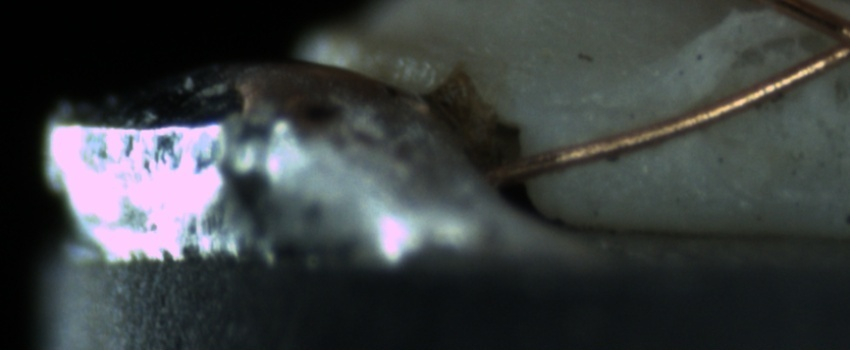CL: (797, 2, 849, 73)
DL: (541, 84, 656, 136)
